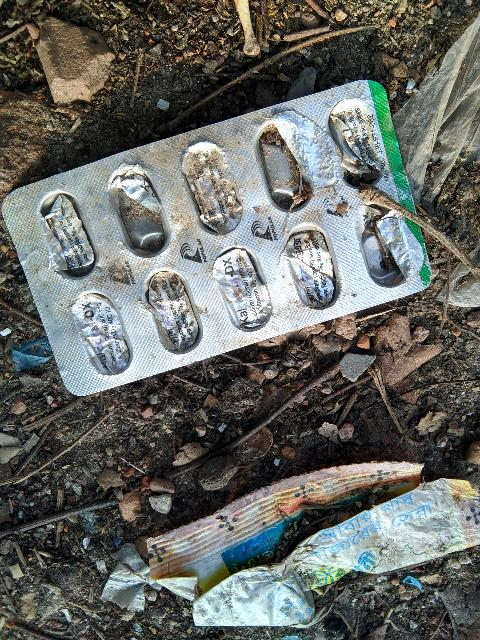medicine: (0, 63, 446, 407)
